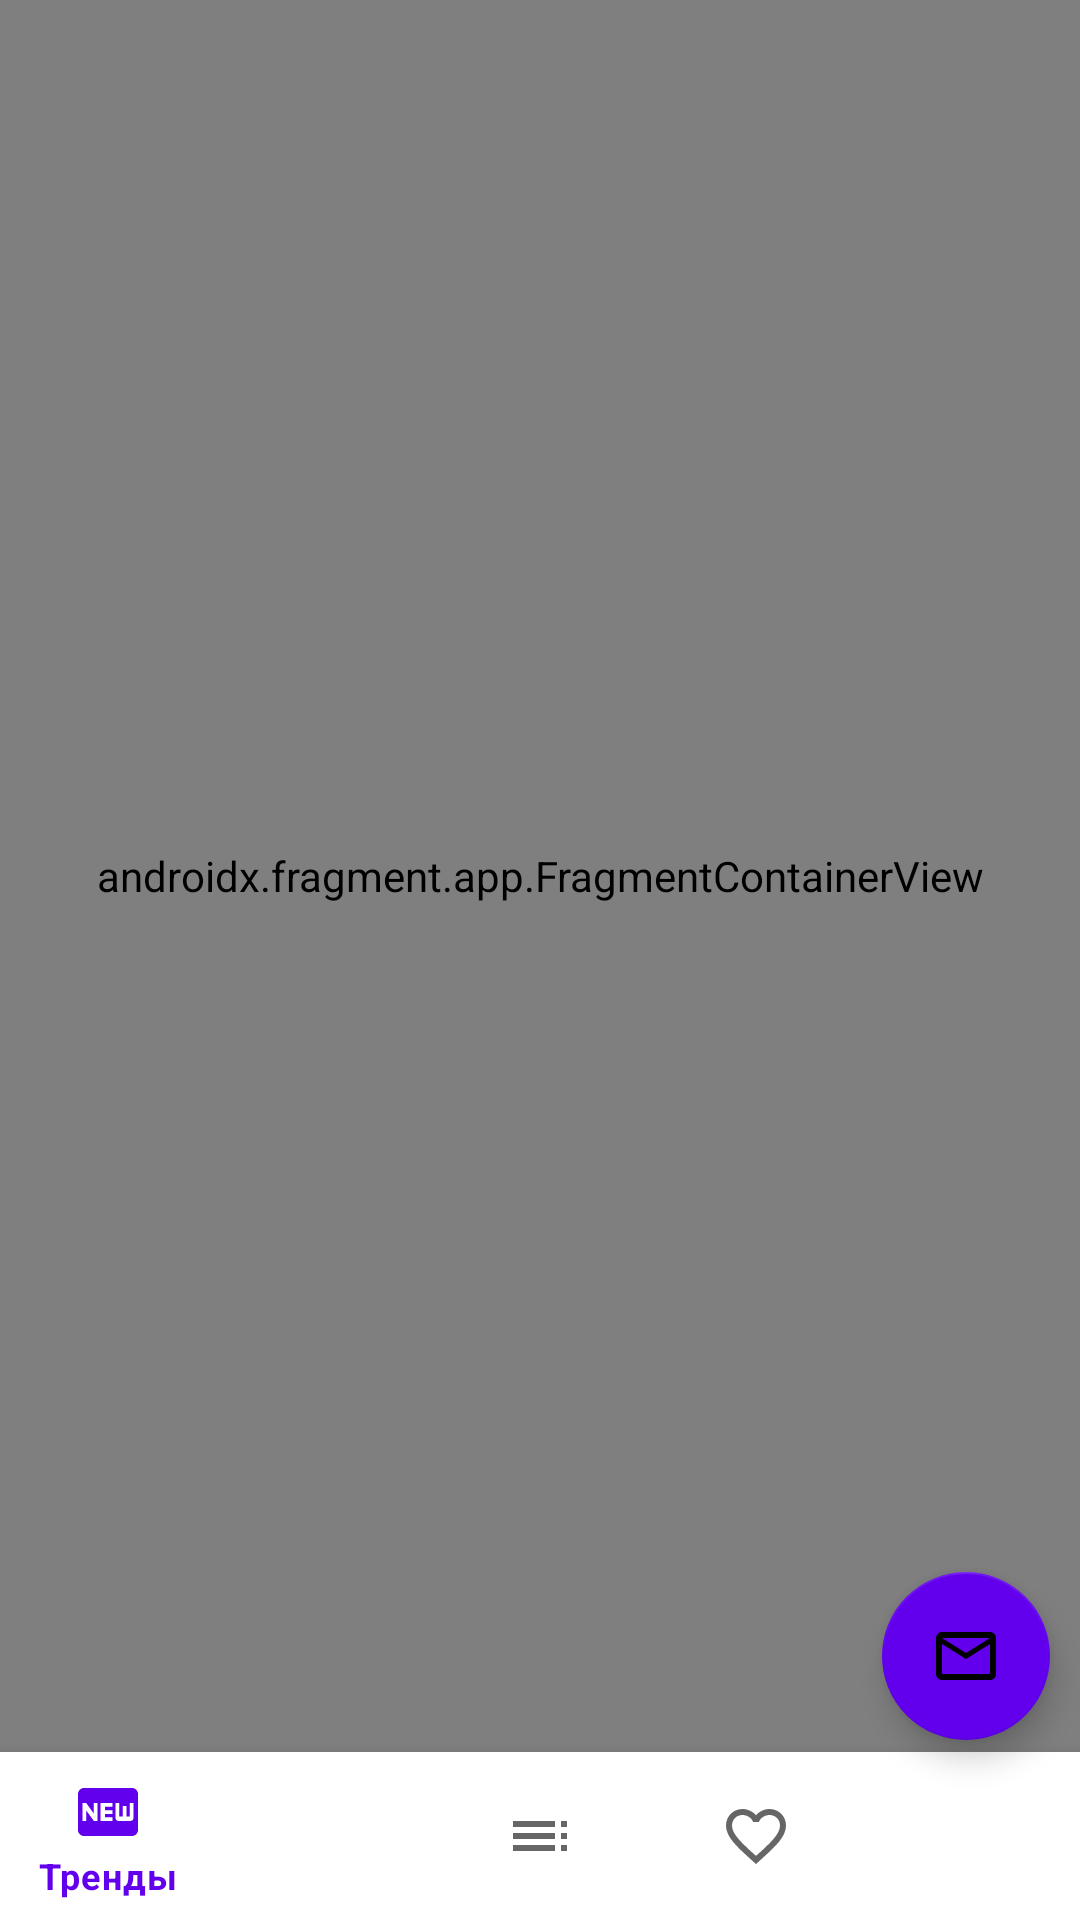

Named icons in this screenshot (1080w x 1920h) and their bounding boxes, (x1, y1, x2, y2):
Сообщения: (882, 1572, 1050, 1740)
